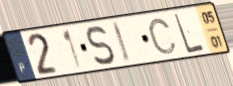1: (61, 25, 84, 72)
2: (27, 31, 60, 77)
C: (147, 17, 179, 57)
I: (109, 20, 133, 66)
L: (172, 12, 206, 56)
S: (86, 24, 117, 67)
